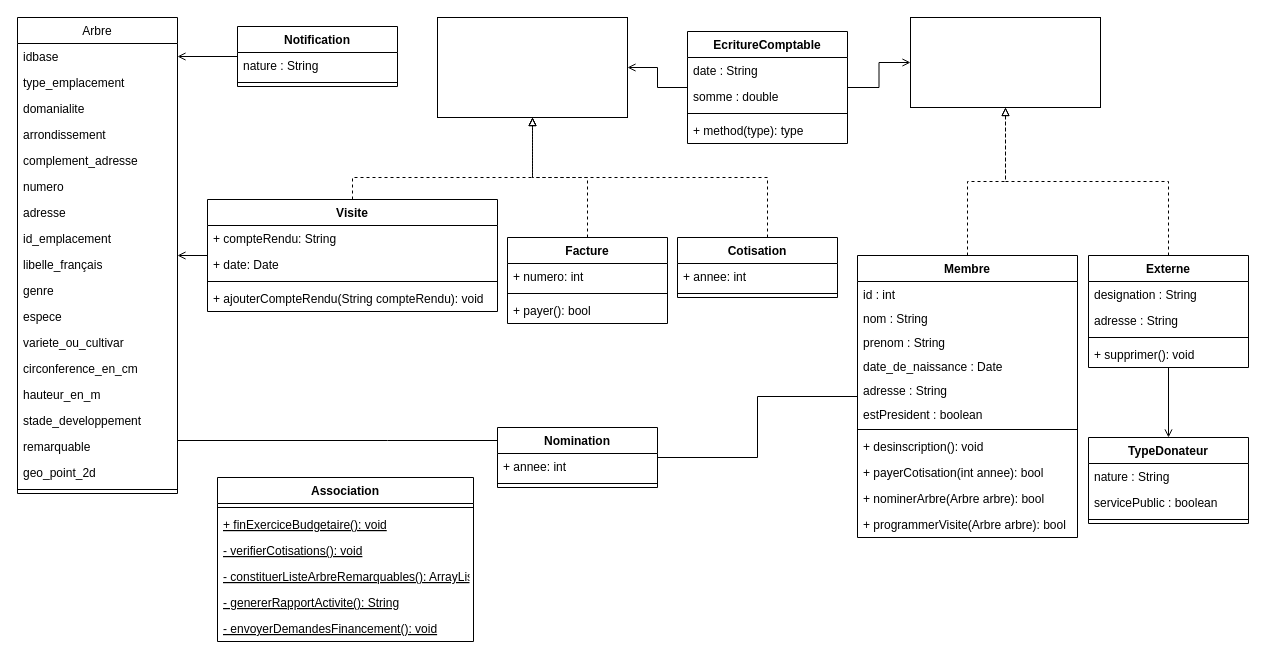
This 1266x662 diagram has some shape labels left out. Here are the shapes that lost their labels. From the top down, the centre of each, then its label:
the point at 532,67: <<Interface>> Evenement
the point at 1005,62: <<Interface>> Compte
